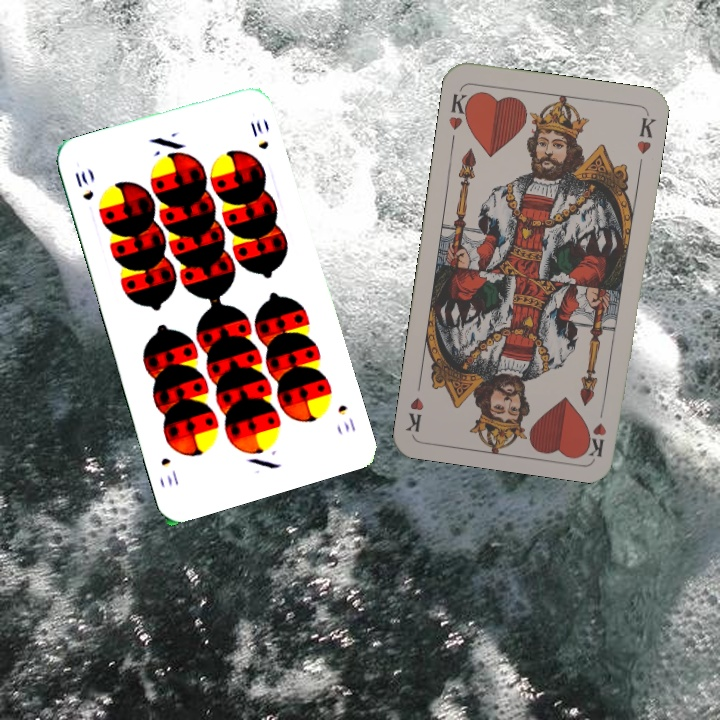HK: (585, 399, 609, 458), (445, 86, 475, 133)
S10: (70, 167, 96, 203), (333, 400, 358, 435)
